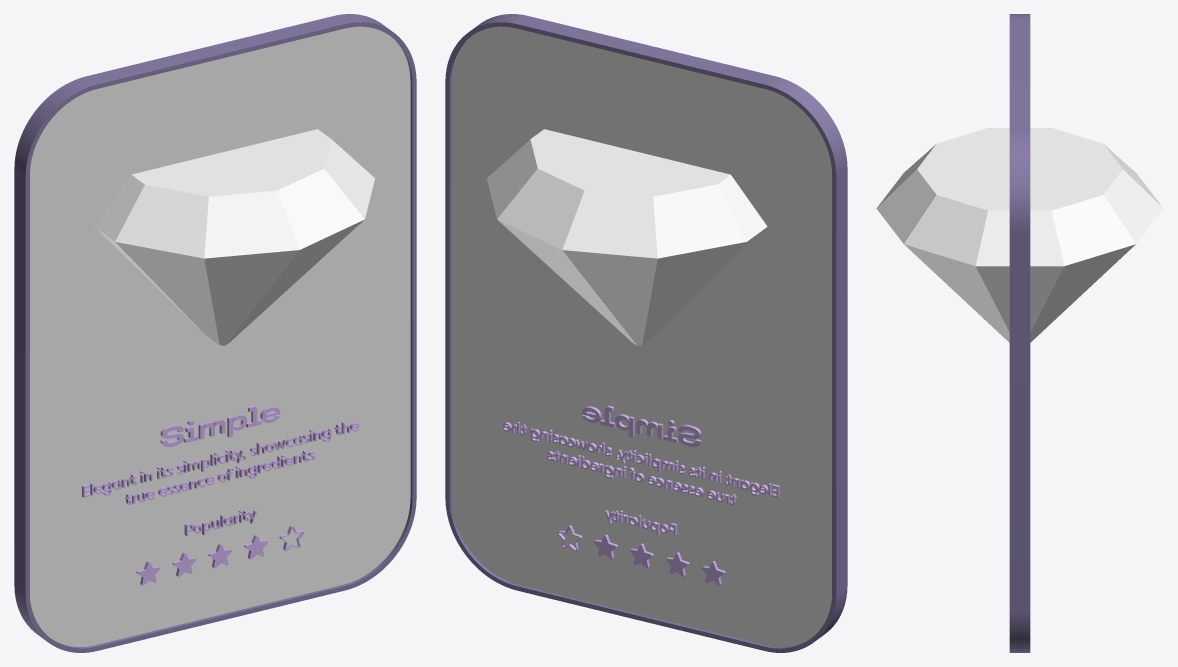
Rendered from simple.glb.
3 views of the same model, side by side, from view 1: azimuth 30°, elevation 25°; view 2: azimuth 150°, elevation 25°; view 3: azimuth 270°, elevation 25° (orthographic). The views are drawn at different scales.
Parts seen in each view (by area): view 1: Mesh_2709.001, Jewel_03_Circle.001, Mesh_2372.002, Mesh_1768.002, Mesh_2313.002, Mesh_2632.001; view 2: Mesh_2709.001, Jewel_03_Circle.001, Mesh_2372.002, Mesh_1768.002, Mesh_2313.002, Mesh_2632.001; view 3: Jewel_03_Circle.001, Mesh_2372.002.
Part boxes in pixels (x1,y1,x2,y2): Mesh_2709.001: (30,26,410,646); Jewel_03_Circle.001: (94,129,374,345); Mesh_2372.002: (14,14,416,652); Mesh_1768.002: (82,421,359,536); Mesh_2313.002: (160,405,280,446); Mesh_2632.001: (136,525,304,585); Mesh_2709.001: (451,26,831,646); Jewel_03_Circle.001: (487,129,767,345); Mesh_2372.002: (445,14,847,652); Mesh_1768.002: (502,421,779,536); Mesh_2313.002: (581,405,701,446); Mesh_2632.001: (557,525,725,585); Jewel_03_Circle.001: (876,128,1163,342); Mesh_2372.002: (1009,14,1030,652).
Size of the model in its own units: 9.06 by 12.55 by 6.34.
